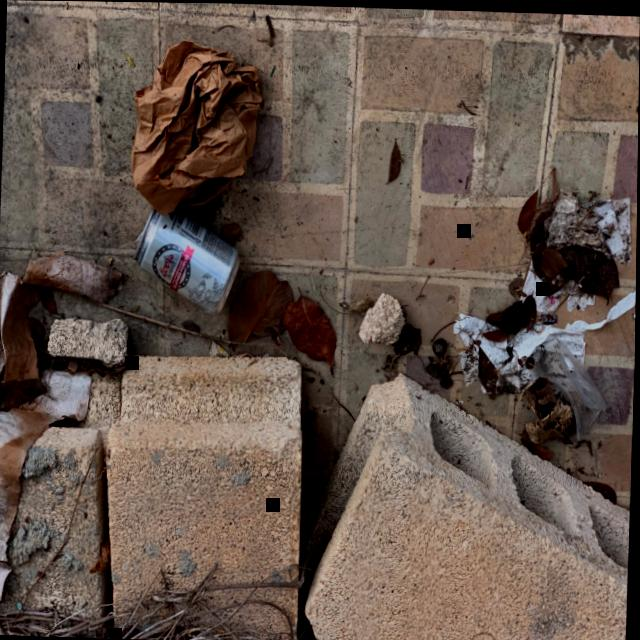Disposable plastic cup: (529, 334, 606, 439)
Drink can: (134, 206, 241, 314)
Normal paper: (453, 286, 637, 391), (519, 186, 630, 309)
Paper bag: (129, 37, 262, 214)
Pop tab: (134, 226, 145, 244)
